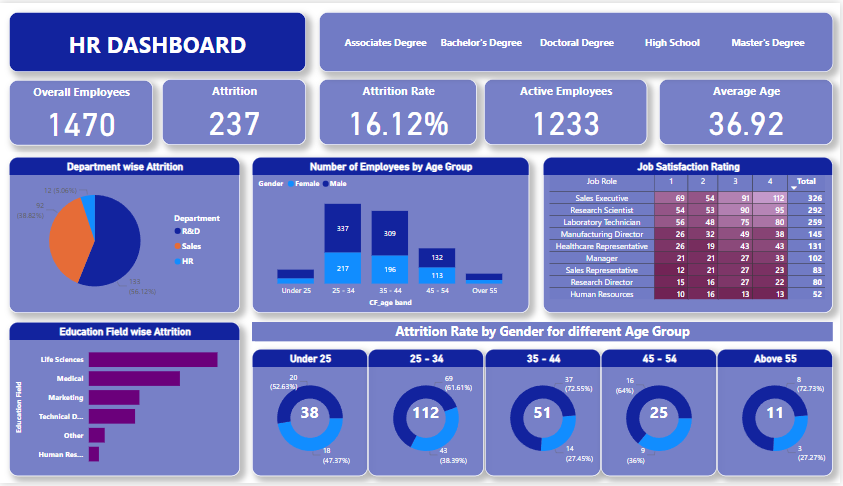

This screenshot's page, from the dashboard's own definition file:
{"tool":"powerbi","page":{"name":"Dashboard","canvas":[1400,800],"ordinal":0},"visuals":[{"type":"card","title":"Overall Employees","fields":{"Values":["Sum(HR data.Employee Count)"]},"box":[14.2,127.6,239.5,109.1],"z":0},{"type":"textbox","box":[15,15,495,100],"z":1000},{"type":"card","title":"Attrition","fields":{"Values":["Sum(HR data.Attrition Count)"]},"box":[270,127.1,240,110],"z":2000},{"type":"card","title":"Attrition Rate","fields":{"Values":["HR data.Attrition Rate"]},"box":[531.7,126.7,263.3,110],"z":3000},{"type":"card","title":"Active Employees","fields":{"Values":["HR data.Active Employees"]},"box":[806.7,126.7,271.7,110],"z":4000},{"type":"card","title":"Average Age","fields":{"Values":["Avg(HR data.Age)"]},"box":[1098.3,126.7,290,110],"z":5000},{"type":"pieChart","title":"Department wise Attrition","fields":{"Category":["HR data.Department"],"Y":["Sum(HR data.Attrition Count)"]},"box":[14.2,256.5,385,260],"z":6000},{"type":"columnChart","title":"Number of Employees by Age Group","fields":{"Category":["HR data.CF_age band"],"Y":["Sum(HR data.Employee Count)"],"Series":["HR data.Gender"]},"box":[420,256.7,461.7,260],"z":7000},{"type":"pivotTable","title":"Job Satisfaction Rating","fields":{"Columns":["HR data.Job Satisfaction"],"Rows":["HR data.Job Role"],"Values":["Sum(HR data.Employee Count)"]},"box":[905,256.7,483.3,260],"z":8000},{"type":"barChart","title":"Education Field wise Attrition","fields":{"Y":["Sum(HR data.Attrition Count)"],"Category":["HR data.Education Field"]},"box":[15,531.7,385,256.7],"z":9000},{"type":"donutChart","title":"Under 25","fields":{"Y":["Sum(HR data.Attrition Count)"],"Category":["HR data.Gender"],"Series":["HR data.CF_age band"]},"box":[420,576.7,193.3,211.7],"z":10000},{"type":"textbox","title":"Attrition Rate by Gender for different Age Group","box":[420,531.7,968.3,31.7],"z":11000},{"type":"donutChart","title":"25 - 34","fields":{"Y":["Sum(HR data.Attrition Count)"],"Category":["HR data.Gender"],"Series":["HR data.CF_age band"]},"box":[613.3,576.7,193.3,211.7],"z":12000},{"type":"donutChart","title":"35 - 44","fields":{"Y":["Sum(HR data.Attrition Count)"],"Category":["HR data.Gender"],"Series":["HR data.CF_age band"]},"box":[808.3,576.7,193.3,211.7],"z":13000},{"type":"donutChart","title":"45 - 54","fields":{"Y":["Sum(HR data.Attrition Count)"],"Category":["HR data.Gender"],"Series":["HR data.CF_age band"]},"box":[1001.7,576.7,193.3,211.7],"z":14000},{"type":"donutChart","title":"Above 55","fields":{"Y":["Sum(HR data.Attrition Count)"],"Category":["HR data.Gender"],"Series":["HR data.CF_age band"]},"box":[1195,576.7,193.3,211.7],"z":15000},{"type":"card","fields":{"Values":["Sum(HR data.Attrition Count)"]},"box":[485,665,61.7,35],"z":16000},{"type":"card","fields":{"Values":["Sum(HR data.Attrition Count)"]},"box":[678.3,665,61.7,35],"z":17000},{"type":"card","fields":{"Values":["Sum(HR data.Attrition Count)"]},"box":[873.3,665,61.7,35],"z":18000},{"type":"card","fields":{"Values":["Sum(HR data.Attrition Count)"]},"box":[1065,665,66.7,35],"z":19000},{"type":"card","fields":{"Values":["Sum(HR data.Attrition Count)"]},"box":[1258.3,665,66.7,35],"z":20000},{"type":"slicer","fields":{"Values":["HR data.Education"]},"box":[531.7,15,856.7,100],"z":21000}]}

Visuals, with their boxes in screenshot pixels (x1, y1, x2, y2), scaled from the page's 1400x800 canvas onto the 843x486 screenshot:
"Overall Employees" card: (9,78,153,144)
textbox: (9,9,307,70)
"Attrition" card: (163,77,307,144)
"Attrition Rate" card: (320,77,479,144)
"Active Employees" card: (486,77,649,144)
"Average Age" card: (661,77,836,144)
"Department wise Attrition" pieChart: (9,156,240,314)
"Number of Employees by Age Group" columnChart: (253,156,531,314)
"Job Satisfaction Rating" pivotTable: (545,156,836,314)
"Education Field wise Attrition" barChart: (9,323,241,479)
"Under 25" donutChart: (253,350,369,479)
"Attrition Rate by Gender for different Age Group" textbox: (253,323,836,342)
"25 - 34" donutChart: (369,350,486,479)
"35 - 44" donutChart: (487,350,603,479)
"45 - 54" donutChart: (603,350,720,479)
"Above 55" donutChart: (720,350,836,479)
card - Sum(HR data.Attrition Count): (292,404,329,425)
card - Sum(HR data.Attrition Count): (408,404,446,425)
card - Sum(HR data.Attrition Count): (526,404,563,425)
card - Sum(HR data.Attrition Count): (641,404,681,425)
card - Sum(HR data.Attrition Count): (758,404,798,425)
slicer - HR data.Education: (320,9,836,70)
